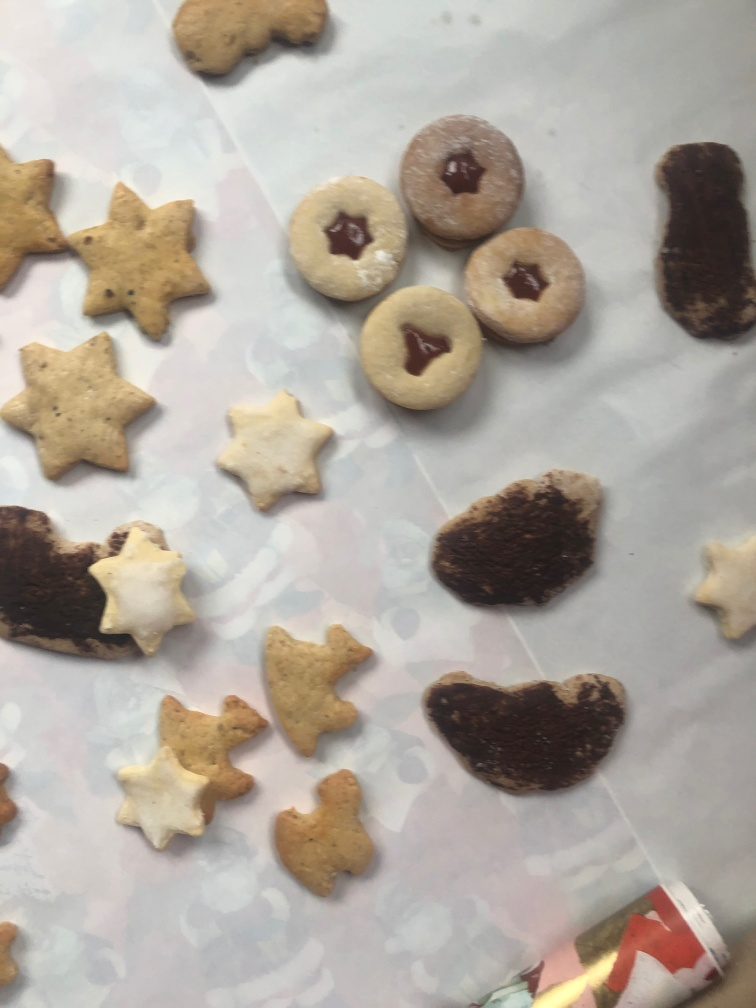christmas shortbread with jam: (357, 279, 483, 417), (397, 110, 526, 242), (284, 172, 410, 303), (457, 227, 588, 350)
lamb: (253, 613, 377, 765), (265, 763, 389, 902), (155, 688, 270, 796)
snowman: (166, 2, 344, 77)
star: (1, 330, 159, 490), (69, 182, 207, 340), (214, 389, 341, 516), (88, 524, 201, 654), (1, 141, 80, 293), (109, 744, 212, 856), (687, 527, 755, 639)
weird #1: (421, 663, 632, 806), (427, 464, 605, 618), (654, 129, 756, 360), (2, 503, 130, 668)
